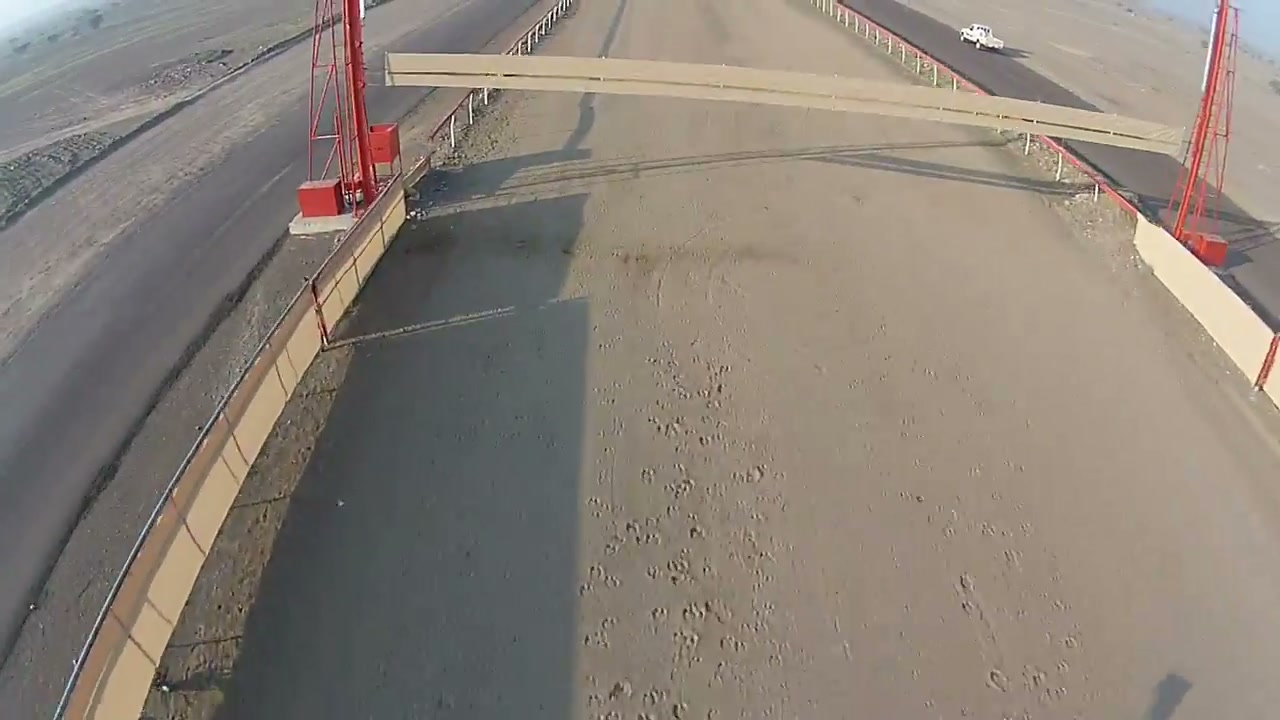animal_foot_print: (582, 302, 753, 713)
